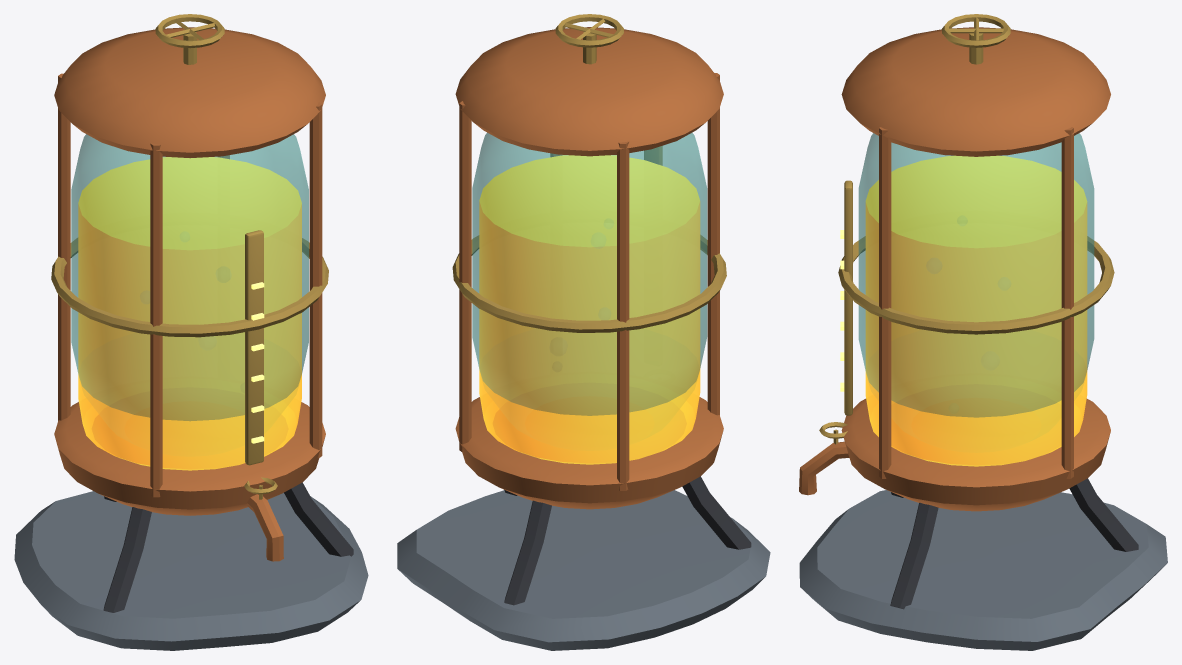
Rendered from deco_fluid_tank_upright.fbx.
3 views of the same model, side by side, from view 1: azimuth 30°, elevation 25°; view 2: azimuth 150°, elevation 25°; view 3: azimuth 270°, elevation 25° (orthographic).
Visible parts, largest first — view 1: FluidTank_Upright_Liquid, FluidTank_Upright_Glass, FluidTank_Upright_Frame, FluidTank_Upright_Slab, FluidTank_Upright_Stand, FluidTank_Upright_TopValve, FluidTank_Upright_Spigot; view 2: FluidTank_Upright_Liquid, FluidTank_Upright_Glass, FluidTank_Upright_Frame, FluidTank_Upright_Slab, FluidTank_Upright_Stand, FluidTank_Upright_TopValve; view 3: FluidTank_Upright_Liquid, FluidTank_Upright_Glass, FluidTank_Upright_Frame, FluidTank_Upright_Slab, FluidTank_Upright_Stand, FluidTank_Upright_TopValve, FluidTank_Upright_Spigot.
Part boxes in pixels (x1,y1,x2,y2): FluidTank_Upright_Liquid: [78, 157, 301, 470]; FluidTank_Upright_Glass: [71, 134, 308, 421]; FluidTank_Upright_Frame: [51, 27, 328, 497]; FluidTank_Upright_Slab: [14, 491, 368, 650]; FluidTank_Upright_Stand: [54, 402, 353, 612]; FluidTank_Upright_TopValve: [155, 14, 224, 64]; FluidTank_Upright_Spigot: [244, 477, 283, 561]; FluidTank_Upright_Liquid: [479, 155, 700, 464]; FluidTank_Upright_Glass: [472, 133, 707, 415]; FluidTank_Upright_Frame: [452, 27, 726, 490]; FluidTank_Upright_Slab: [397, 490, 770, 650]; FluidTank_Upright_Stand: [455, 397, 751, 605]; FluidTank_Upright_TopValve: [555, 14, 623, 64]; FluidTank_Upright_Liquid: [865, 155, 1087, 466]; FluidTank_Upright_Glass: [858, 133, 1094, 417]; FluidTank_Upright_Frame: [838, 27, 1114, 478]; FluidTank_Upright_Slab: [799, 490, 1167, 650]; FluidTank_Upright_Stand: [841, 398, 1138, 609]; FluidTank_Upright_TopValve: [942, 14, 1010, 64]; FluidTank_Upright_Spigot: [799, 422, 849, 495].
Bounding box in the file's own units: 128 × 216 × 131.
